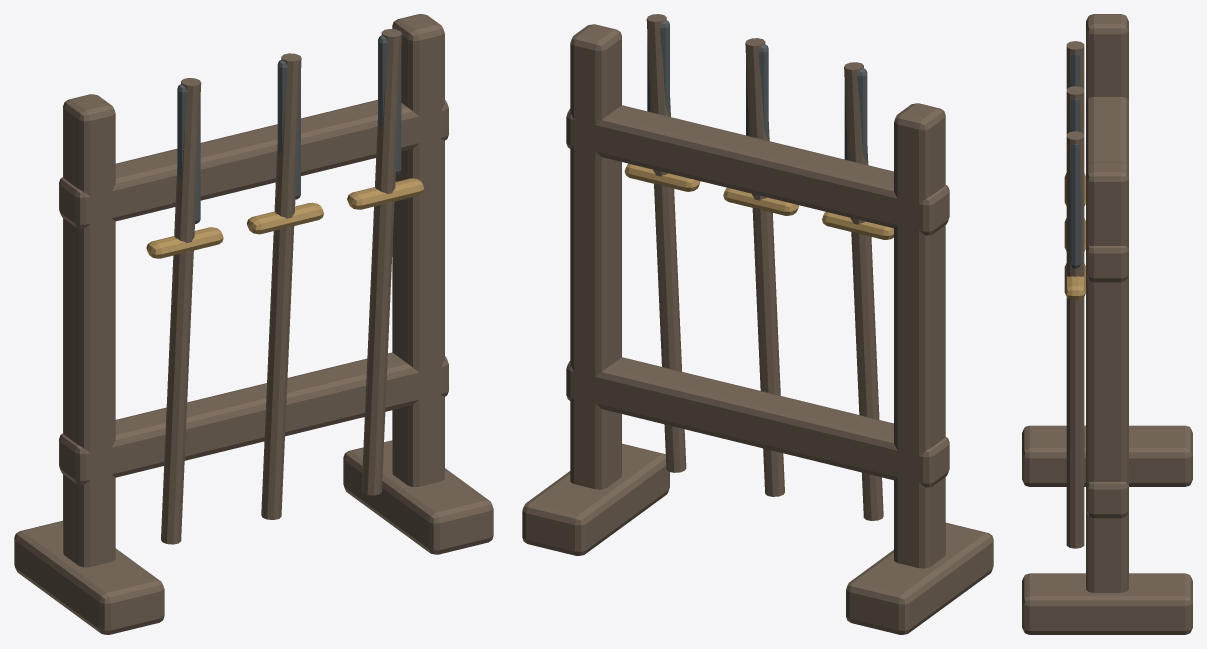
File: weapon_stand.glb
The picture shows the model from 3 angles, left to right: view 1: azimuth 30°, elevation 25°; view 2: azimuth 150°, elevation 25°; view 3: azimuth 270°, elevation 25°; orthographic projection. The views are drawn at different scales.
Visible parts, largest first — view 1: Body.069; view 2: Body.069; view 3: Body.069.
Boxes of the visible parts, x1,y1,x2,y2 form: Body.069: [14, 14, 493, 634]; Body.069: [522, 14, 993, 634]; Body.069: [1022, 14, 1192, 634].
Size of the model in its own units: 0.98 by 1.21 by 0.4.
